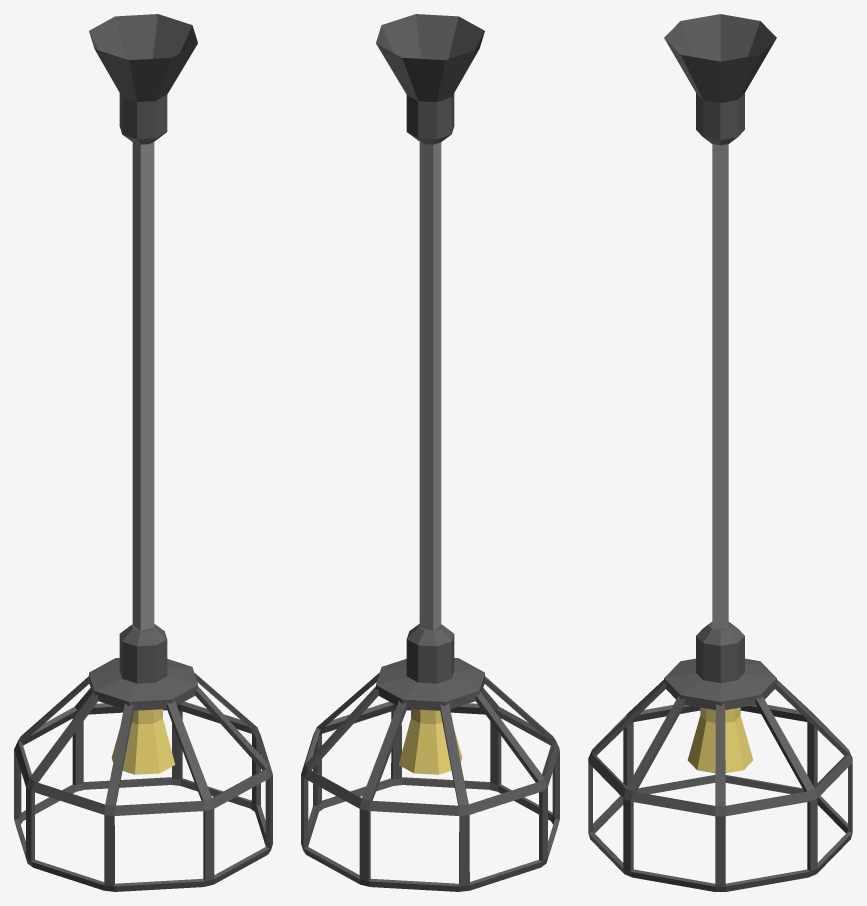
File: Chandelier_3.fbx
3 views of the same model, side by side, from view 1: azimuth 30°, elevation 25°; view 2: azimuth 150°, elevation 25°; view 3: azimuth 270°, elevation 25° (orthographic).
Parts seen in each view (by area): view 1: Chandelier_3; view 2: Chandelier_3; view 3: Chandelier_3.
Part boxes in pixels (bbox=[...]): Chandelier_3: bbox=[14, 14, 272, 891]; Chandelier_3: bbox=[301, 14, 559, 891]; Chandelier_3: bbox=[588, 14, 852, 891].
Size of the model in its own units: 49.39 by 49.39 by 165.
